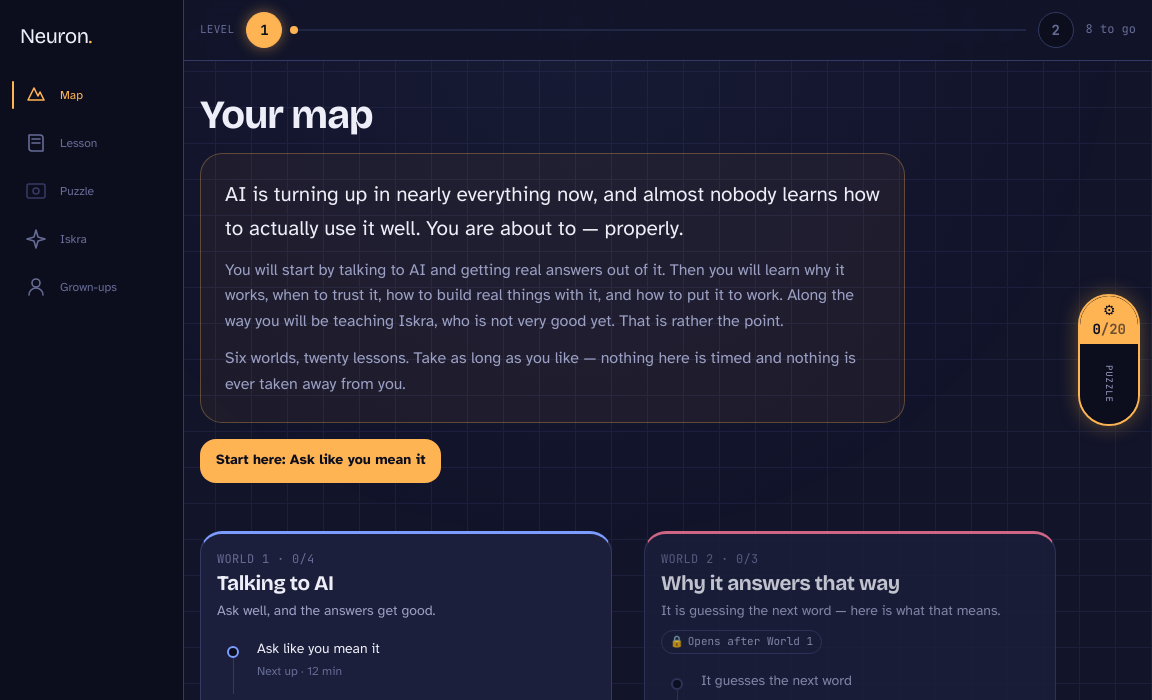
Test: the machine progress tab › taps through to the machine page
Click the button "⚙ 0/20 puzzle": x=1109, y=360 [1078,294,1140,426]
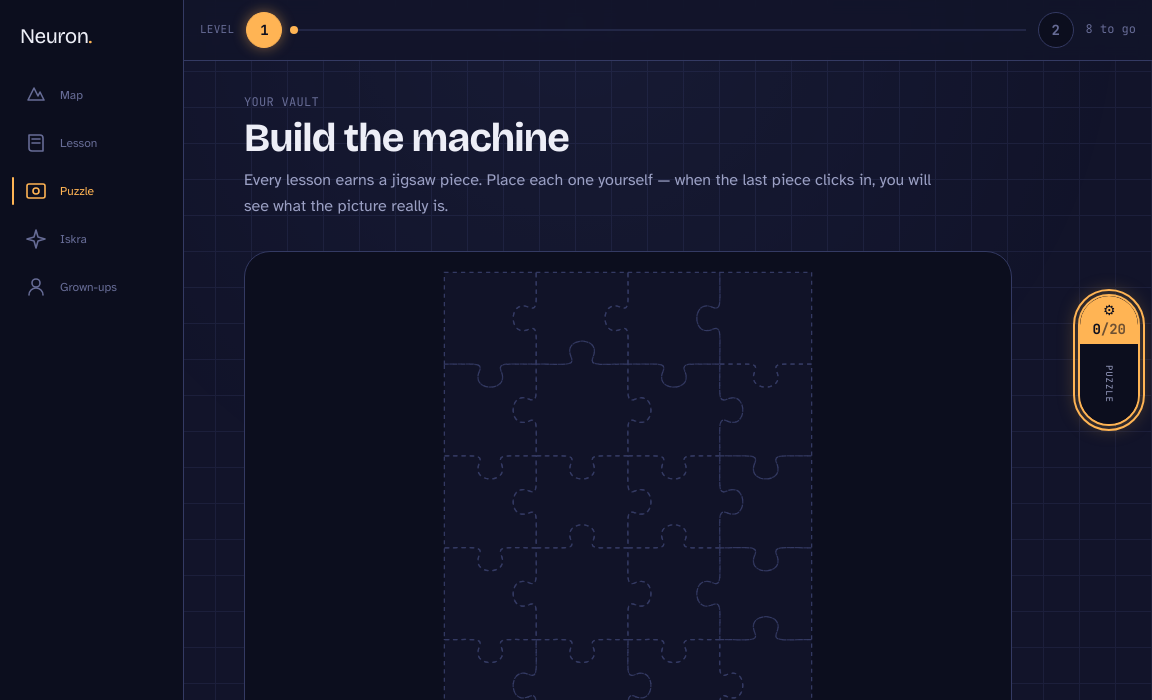
Expected: the heading "Build the machine" is shown, [244,114,569,162]
